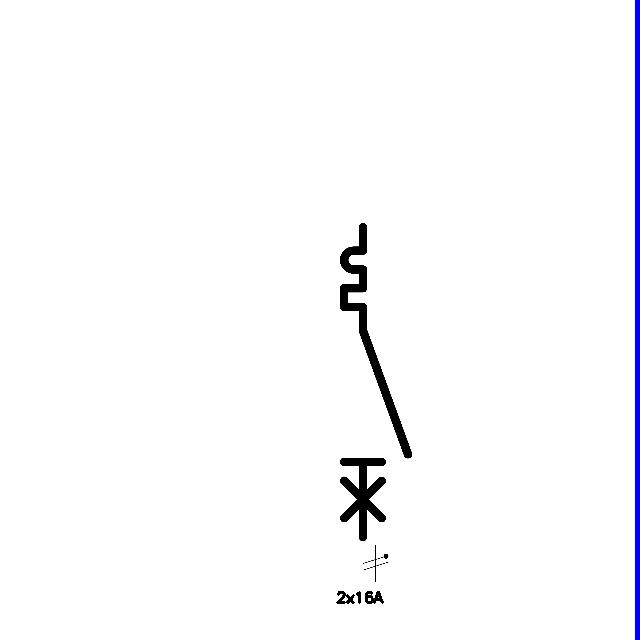interruptor_termomagnetico: (336, 219, 416, 545)
